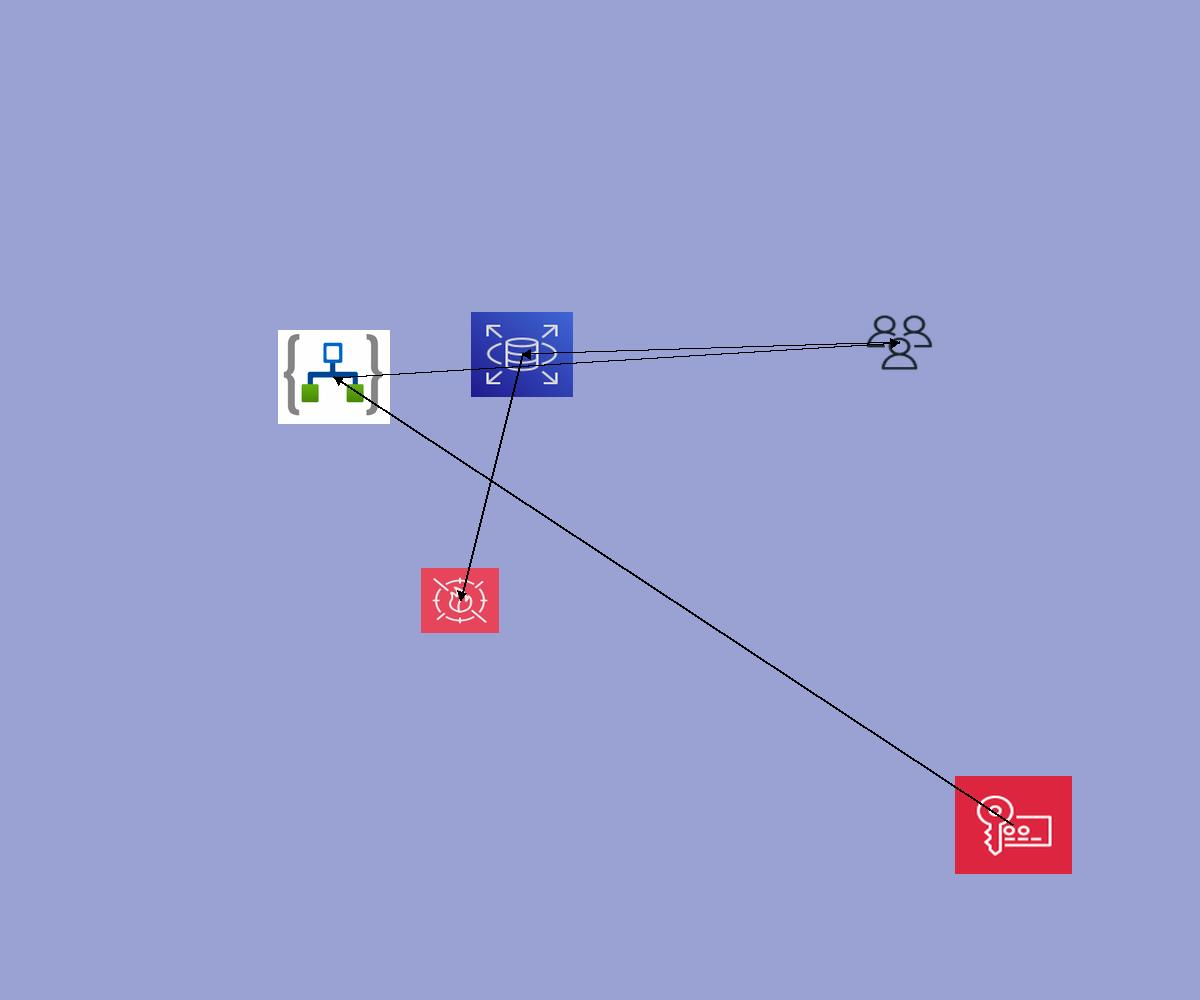AWS-Key-Management-Service: (955, 776, 1072, 874)
AWS-RDS: (471, 312, 573, 397)
AWS-Res_Users: (864, 313, 935, 372)
AWS-WAF: (421, 568, 499, 633)
Azure_integration-204-Logic-Apps: (278, 330, 390, 424)
